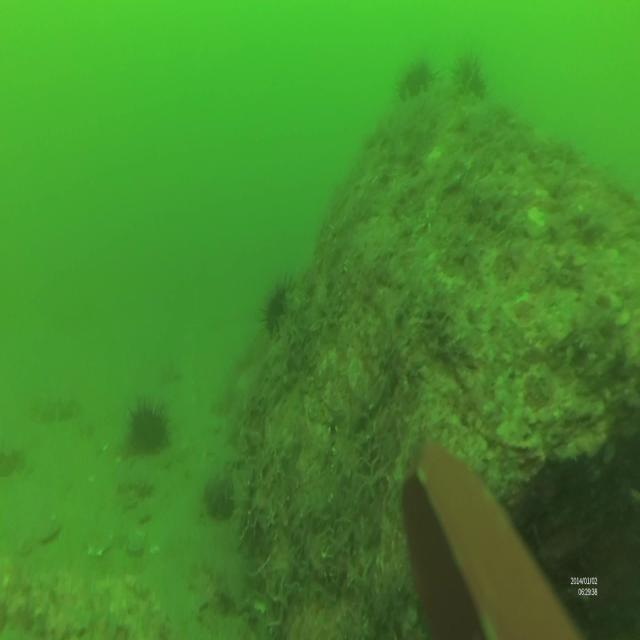echinus: (124, 399, 172, 461), (261, 279, 300, 342), (398, 58, 437, 112), (454, 51, 487, 107)
holothurian: (29, 396, 83, 424)
